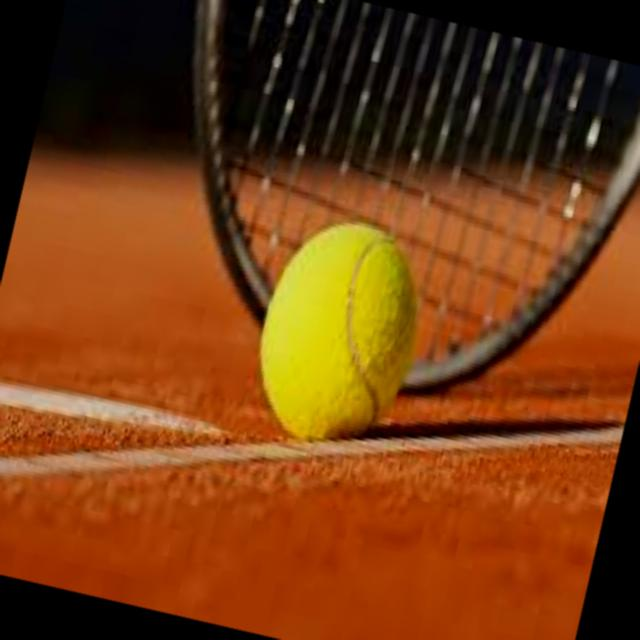tennis-ball: (241, 208, 437, 458)
